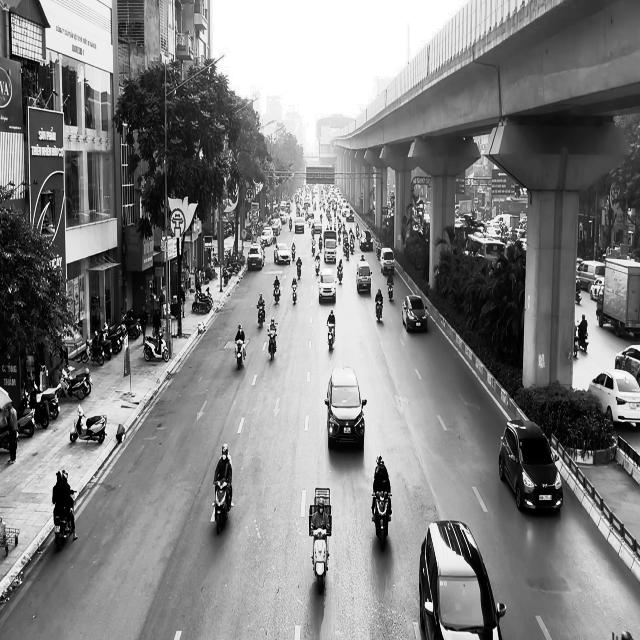car: (418, 519, 506, 640), (498, 418, 563, 512), (324, 366, 367, 450), (587, 369, 640, 426), (402, 294, 428, 332), (317, 268, 336, 303), (356, 259, 372, 294), (274, 242, 291, 265)
motorbike: (309, 523, 331, 594), (69, 404, 107, 444), (52, 490, 76, 551), (371, 490, 392, 550), (212, 478, 232, 534), (143, 329, 169, 361), (267, 326, 277, 360), (235, 339, 246, 369), (327, 322, 335, 349), (375, 298, 383, 322), (257, 304, 265, 328), (273, 284, 281, 304), (387, 280, 393, 300), (292, 284, 297, 304)
truck: (596, 256, 640, 338)
